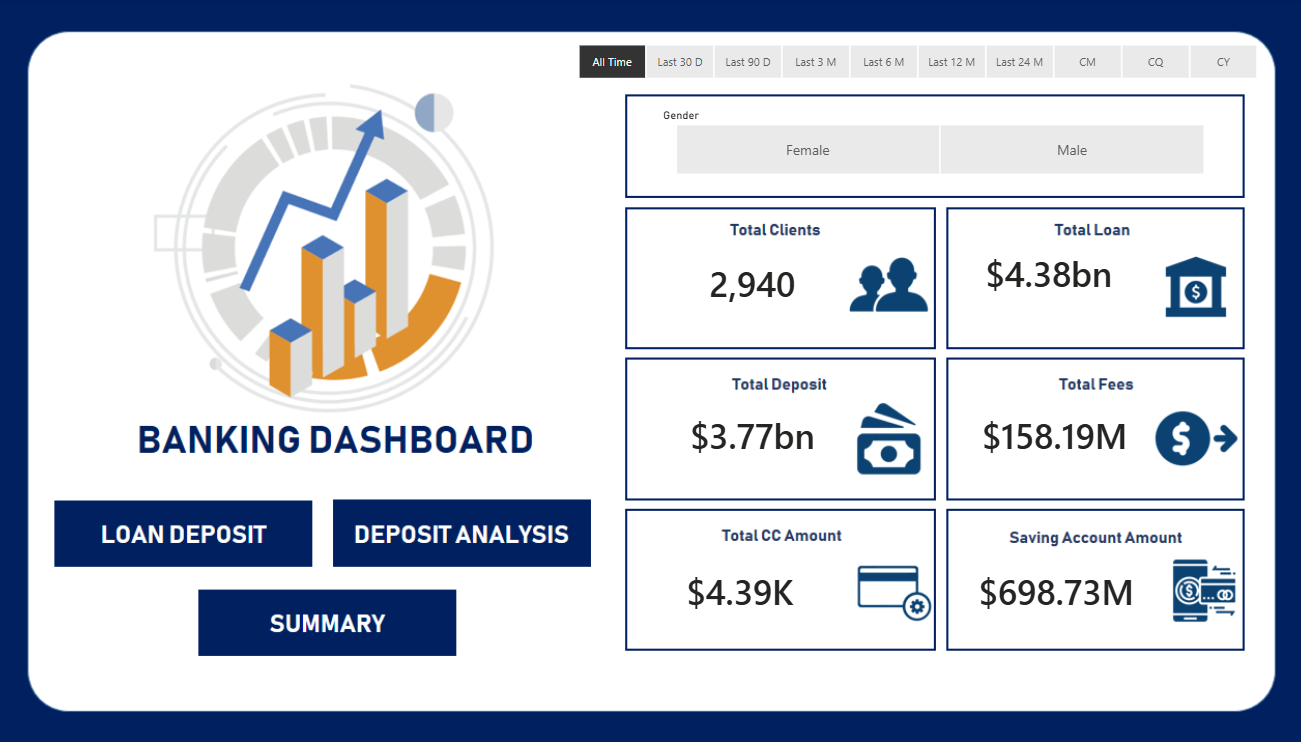

The page's visual inventory and layout, read from the dashboard file:
{"tool":"powerbi","page":{"name":"Home","canvas":[1280,720],"ordinal":0},"visuals":[{"type":"slicer","fields":{"Values":["Gender.Gender"]},"box":[640.3,100.8,558.2,75],"z":0},{"type":"card","fields":{"Values":["DAX Measures.Total Clients"]},"box":[640.3,218.1,198.2,114.9],"z":1000},{"type":"card","fields":{"Values":["DAX Measures.Total Loan"]},"box":[933.4,208.7,184.1,114.9],"z":2000},{"type":"card","fields":{"Values":["DAX Measures.Total Deposit"]},"box":[640.3,374.1,198.2,98.5],"z":3000},{"type":"card","fields":{"Values":["DAX Measures.Total CC Amount"]},"box":[628.5,533.6,198.2,79.7],"z":4000},{"type":"card","fields":{"Values":["DAX Measures.Total Fees"]},"box":[938.1,372.9,185.3,99.7],"z":5000},{"type":"card","fields":{"Values":["DAX Measures.Savings Account"]},"box":[933.4,533.6,198.2,79.7],"z":6000},{"type":"actionButton","box":[63.3,483.1,253.3,65.7],"z":7000},{"type":"actionButton","box":[335.4,485.5,250.9,63.3],"z":8000},{"type":"actionButton","box":[205.2,573.4,255.6,61],"z":9000},{"type":"slicer","fields":{"Values":["Period.Name"]},"box":[546.4,38.7,703.6,45.7],"z":10000}]}

Visuals, with their boxes in screenshot pixels (x1, y1, x2, y2), scaled from the page's 1280x720 canvas onto the 1301x742 screenshot:
slicer - Gender.Gender: l=651, t=104, r=1218, b=181
card - DAX Measures.Total Clients: l=651, t=225, r=852, b=343
card - DAX Measures.Total Loan: l=949, t=215, r=1136, b=333
card - DAX Measures.Total Deposit: l=651, t=386, r=852, b=487
card - DAX Measures.Total CC Amount: l=639, t=550, r=840, b=632
card - DAX Measures.Total Fees: l=953, t=384, r=1142, b=487
card - DAX Measures.Savings Account: l=949, t=550, r=1150, b=632
actionButton: l=64, t=498, r=322, b=566
actionButton: l=341, t=500, r=596, b=566
actionButton: l=209, t=591, r=468, b=654
slicer - Period.Name: l=555, t=40, r=1271, b=87
